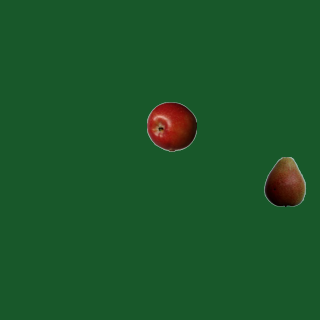Apple Braeburn: (146, 101, 196, 151)
Pear Forelle: (259, 156, 309, 206)
